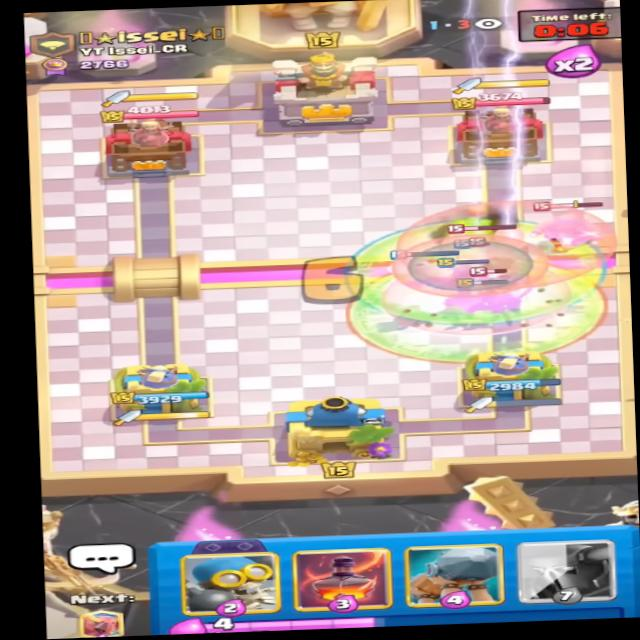Goblincurse: (342, 256, 608, 367)
Goblindemolisher: (528, 193, 608, 249)
